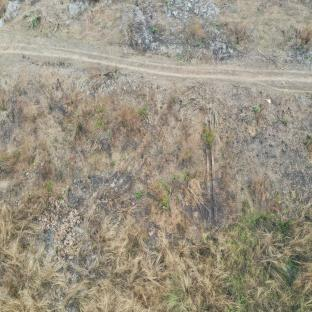slope_drain: (204, 114, 225, 247)
vegetation: (1, 194, 308, 312)
